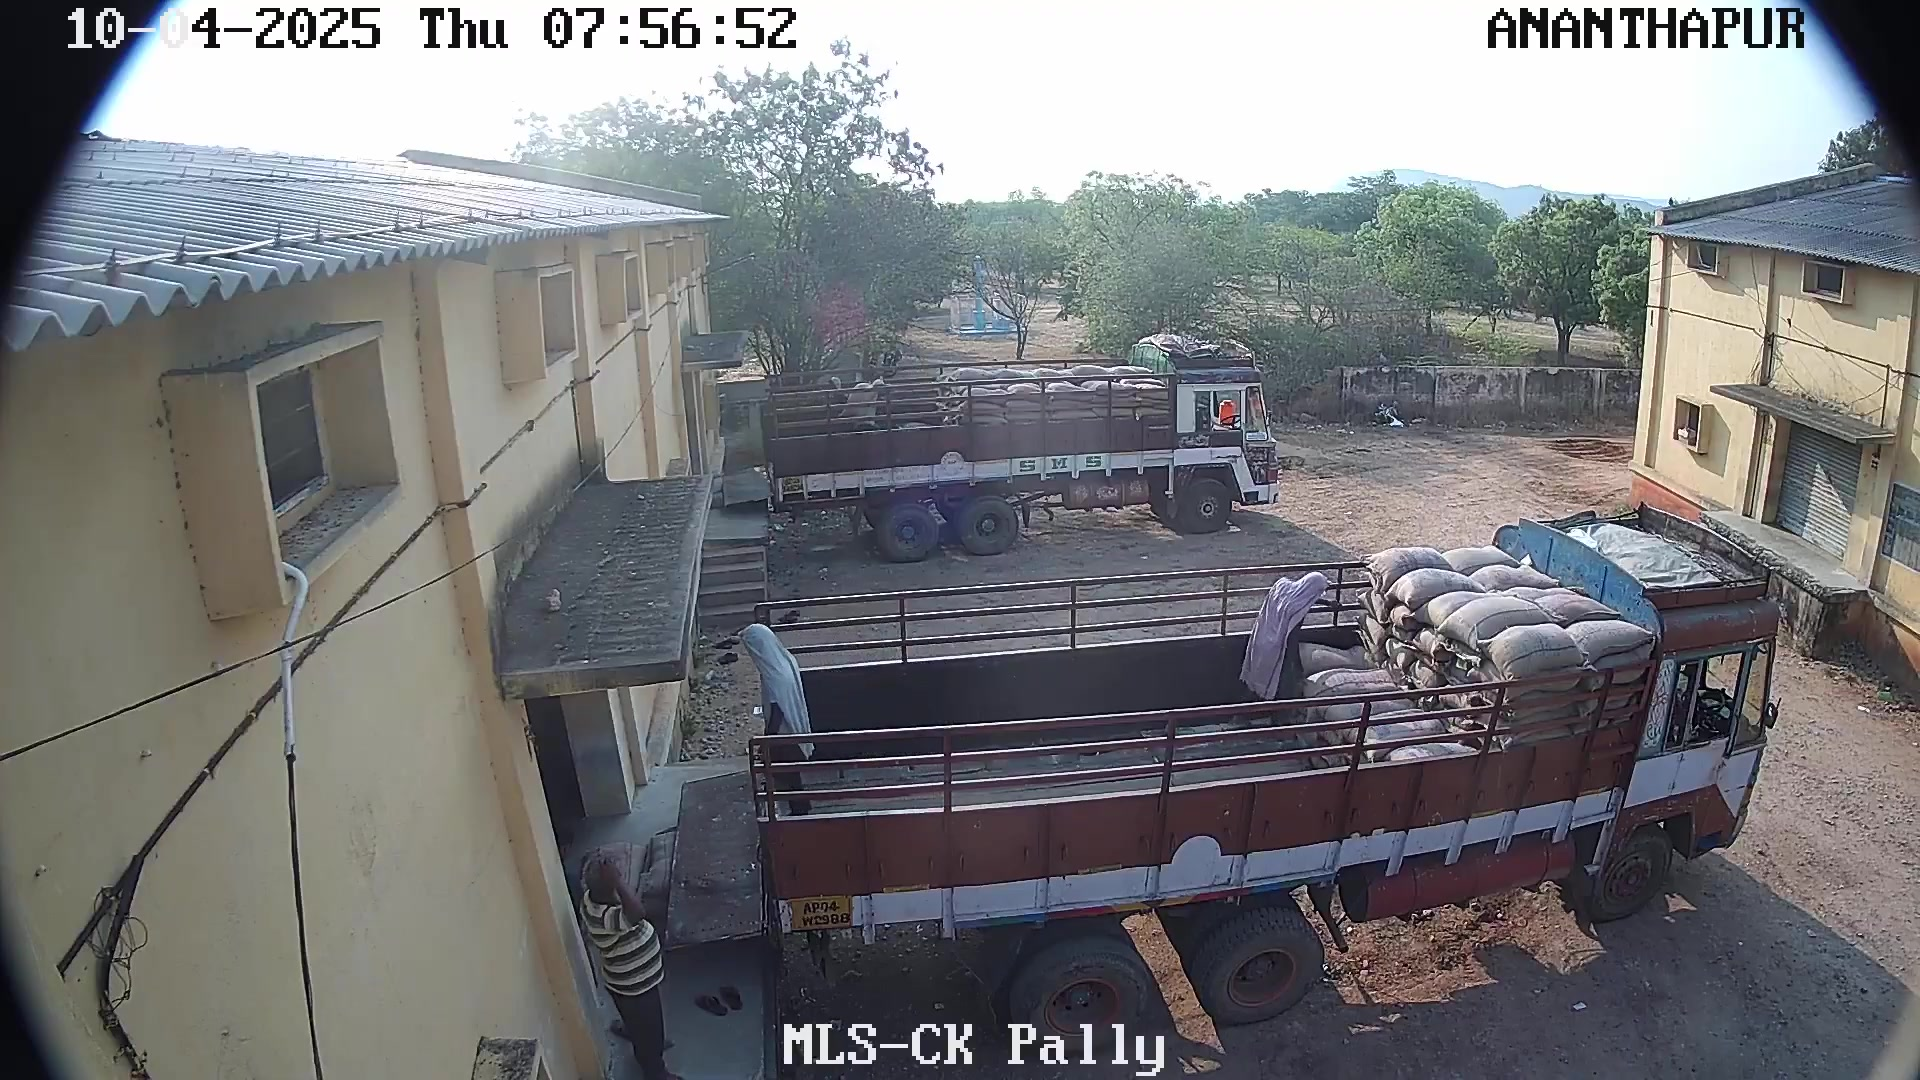gunny_bag_ignore: (676, 301, 1785, 903)
